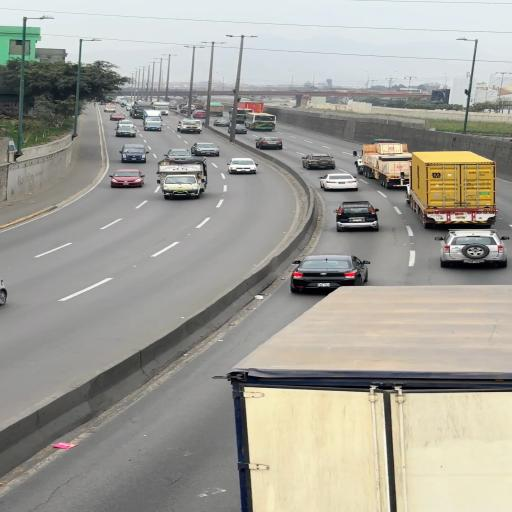auto: (290, 255, 368, 291), (436, 230, 510, 266), (333, 201, 380, 232), (318, 172, 358, 190), (109, 170, 145, 188), (300, 153, 334, 169), (118, 144, 147, 162), (227, 158, 259, 174), (190, 142, 220, 157), (163, 148, 194, 161), (256, 136, 283, 150)
bus: (409, 151, 495, 212), (363, 142, 410, 156)
